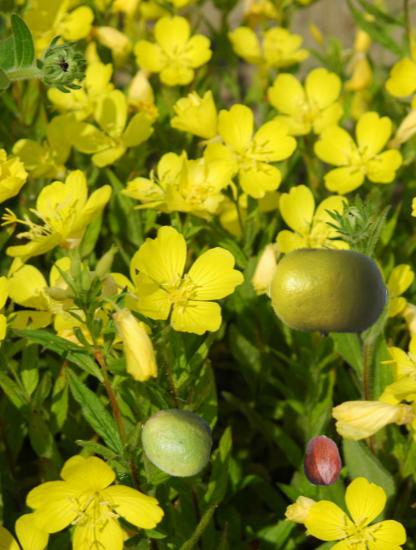Limes: (139, 405, 213, 479)
Nut: (298, 436, 349, 487)
Pomelo: (269, 233, 388, 352)
